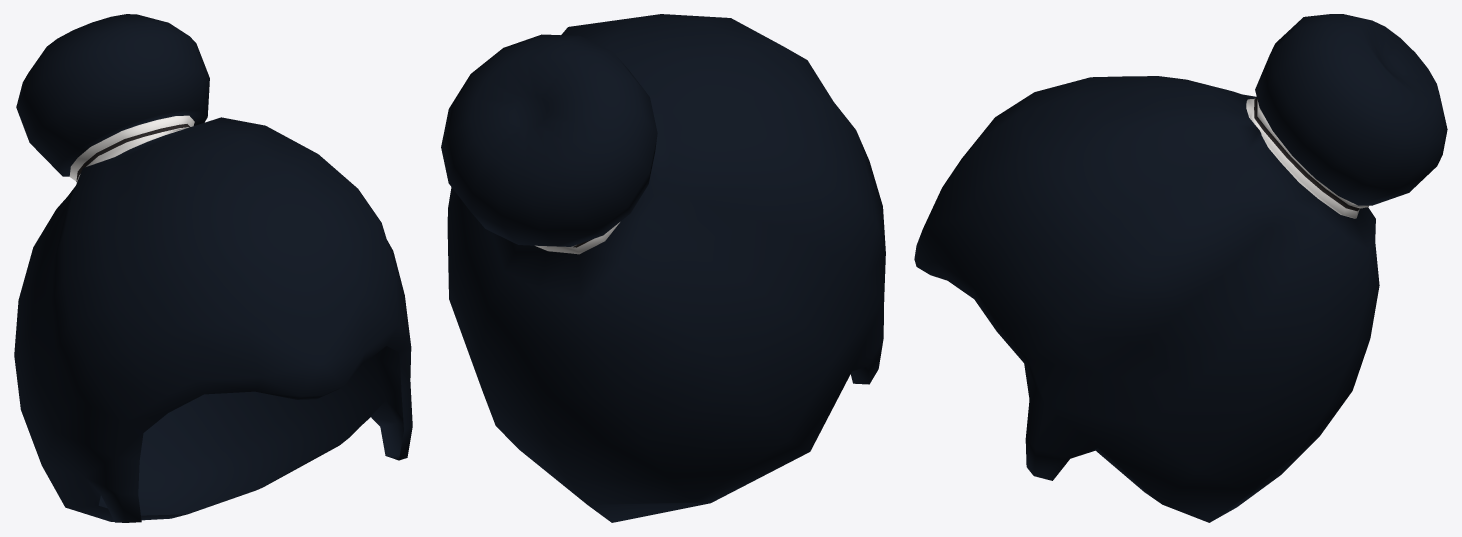
Rendered from HairBun.glb.
3 renders of one model, left to right at view 1: azimuth 30°, elevation 25°; view 2: azimuth 150°, elevation 25°; view 3: azimuth 270°, elevation 25°, orthographic. The views are drawn at different scales.
Visible parts, largest first — view 1: Hair.000; view 2: Hair.000; view 3: Hair.000.
Part boxes in pixels (box(x1,y1,x2,y2)): Hair.000: box(14, 14, 412, 522); Hair.000: box(441, 14, 885, 522); Hair.000: box(914, 14, 1447, 522).
Bounding box in the file's own units: 0.2524 × 0.334 × 0.3341.
Materials: 1 (1 with a texture image).
